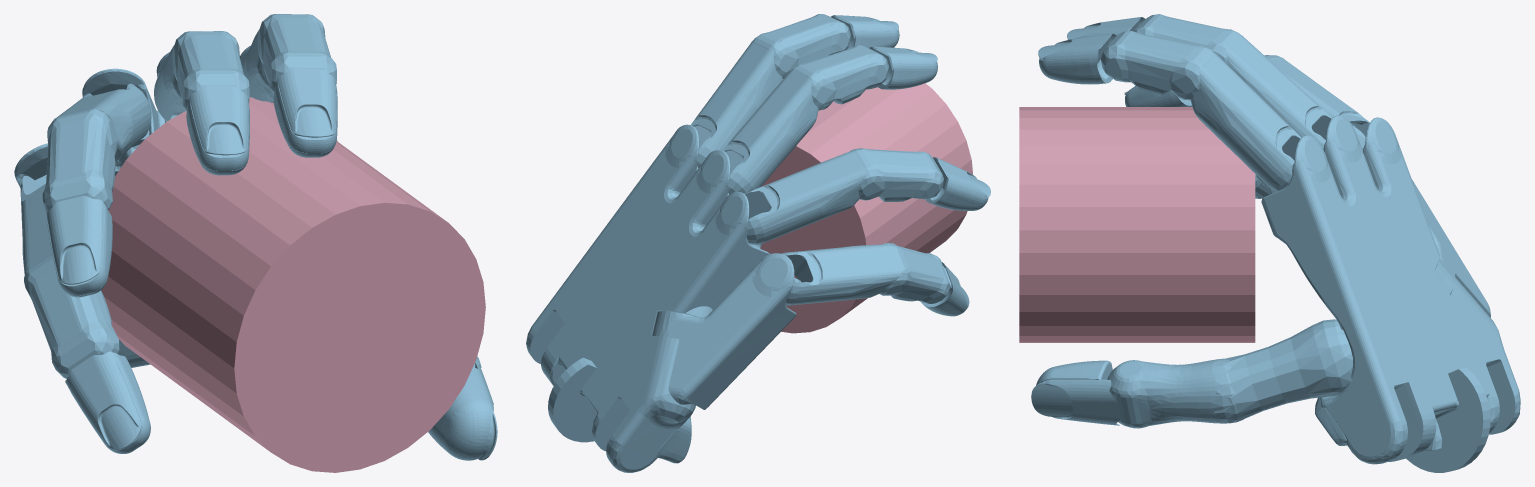
3 views of the same model, side by side, from view 1: azimuth 30°, elevation 25°; view 2: azimuth 150°, elevation 25°; view 3: azimuth 270°, elevation 25° (orthographic). The views are drawn at different scales.
Parts seen in each view (by area): view 1: cylinder_medium.stl, world; view 2: world, cylinder_medium.stl; view 3: world, cylinder_medium.stl.
Part boxes in pixels (x1,y1,x2,y2): cylinder_medium.stl: [101, 97, 485, 472]; world: [14, 14, 497, 460]; world: [526, 14, 990, 472]; cylinder_medium.stl: [760, 83, 972, 333]; world: [1031, 14, 1520, 472]; cylinder_medium.stl: [1019, 107, 1255, 342].
Size of the model in its own units: 0.1511 by 0.1429 by 0.1698.
